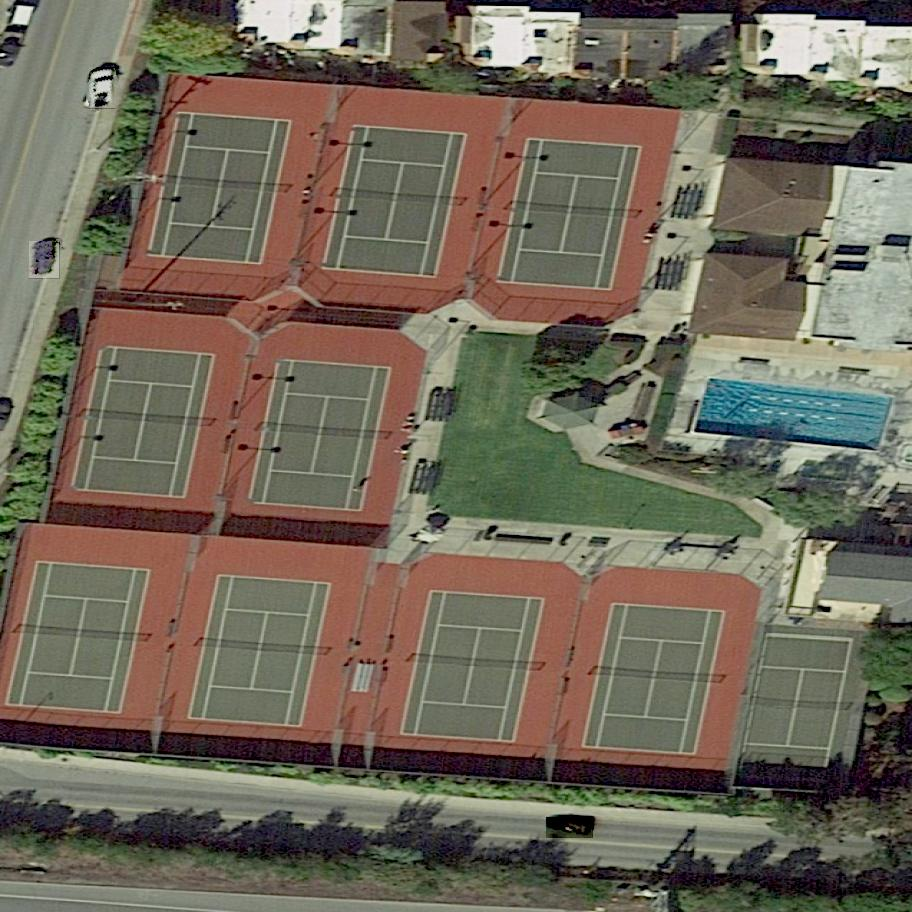small-vehicle: (30, 240, 60, 280), (89, 67, 116, 108), (547, 817, 593, 838)
